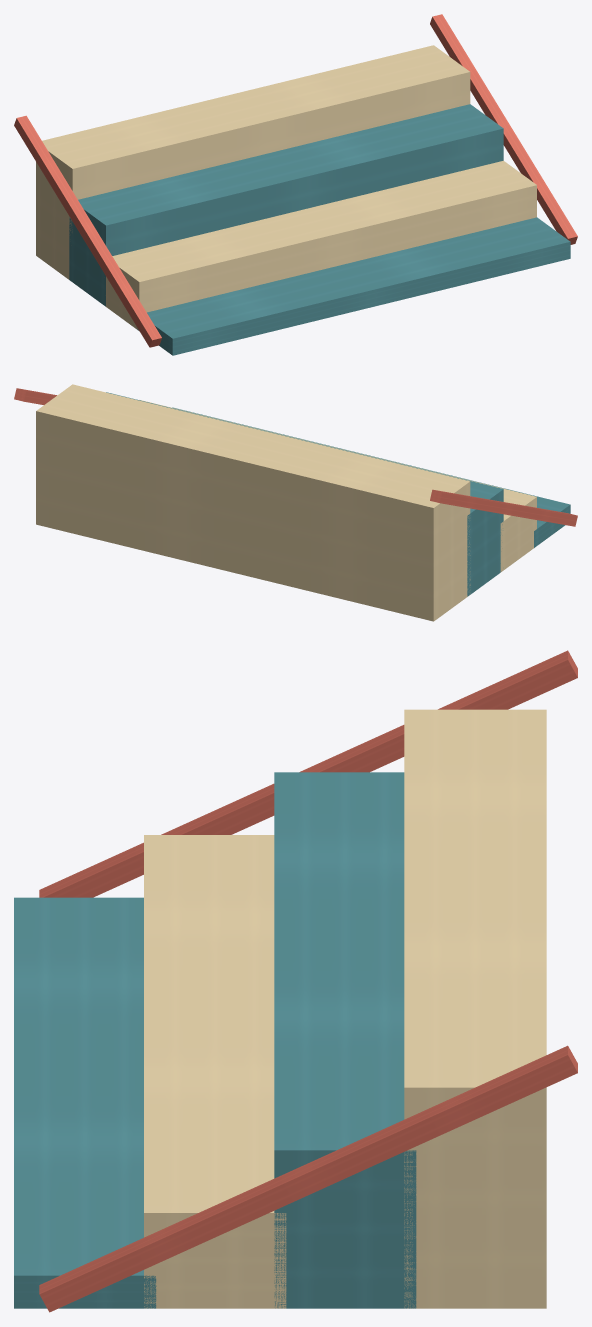
The model's file is atlas100-s071-a10.glb.
3 renders of one model, top to bottom at view 1: azimuth 30°, elevation 25°; view 2: azimuth 150°, elevation 25°; view 3: azimuth 270°, elevation 25°, orthographic. The views are drawn at different scales.
Visible parts, largest first — view 1: atlas100-s071-a10:part-003, atlas100-s071-a10:part-002, atlas100-s071-a10:part-001, atlas100-s071-a10:part-000, atlas100-s071-a10:part-004, atlas100-s071-a10:part-005; view 2: atlas100-s071-a10:part-003, atlas100-s071-a10:part-002, atlas100-s071-a10:part-001, atlas100-s071-a10:part-004, atlas100-s071-a10:part-000, atlas100-s071-a10:part-005; view 3: atlas100-s071-a10:part-003, atlas100-s071-a10:part-002, atlas100-s071-a10:part-001, atlas100-s071-a10:part-000, atlas100-s071-a10:part-005, atlas100-s071-a10:part-004.
Boxes of the visible parts, x1,y1,x2,y2 form: atlas100-s071-a10:part-003: (36, 45, 470, 279); atlas100-s071-a10:part-002: (69, 104, 503, 306); atlas100-s071-a10:part-001: (106, 160, 536, 330); atlas100-s071-a10:part-000: (137, 217, 570, 355); atlas100-s071-a10:part-004: (14, 115, 161, 347); atlas100-s071-a10:part-005: (430, 14, 577, 244); atlas100-s071-a10:part-003: (36, 384, 470, 621); atlas100-s071-a10:part-002: (106, 392, 503, 596); atlas100-s071-a10:part-001: (139, 400, 536, 572); atlas100-s071-a10:part-004: (430, 489, 577, 526); atlas100-s071-a10:part-000: (172, 407, 570, 547); atlas100-s071-a10:part-005: (14, 388, 56, 404); atlas100-s071-a10:part-003: (404, 709, 546, 1308); atlas100-s071-a10:part-002: (274, 772, 416, 1308); atlas100-s071-a10:part-001: (144, 835, 286, 1308); atlas100-s071-a10:part-000: (14, 897, 156, 1308); atlas100-s071-a10:part-005: (39, 1045, 577, 1312); atlas100-s071-a10:part-004: (39, 650, 577, 897).
Bounding box in the file's own units: 2.36 × 0.7246 × 1.39.
3 materials, 3 textured.
